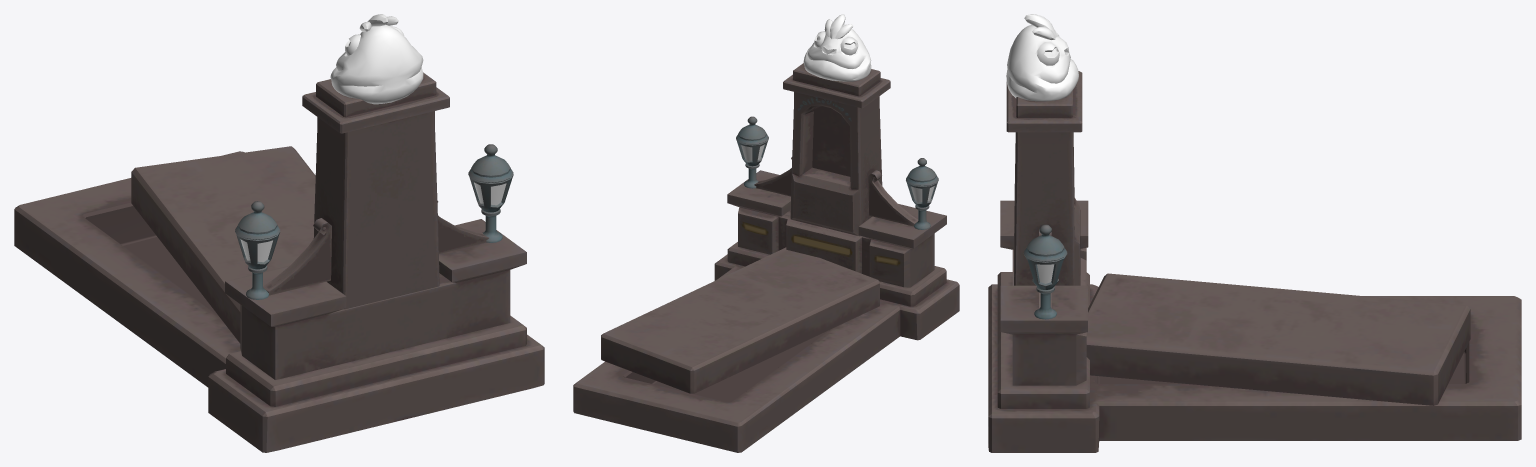
The model's file is RoyalGraveStatic 1.fbx.
The picture shows the model from 3 angles, left to right: view 1: azimuth 30°, elevation 25°; view 2: azimuth 150°, elevation 25°; view 3: azimuth 270°, elevation 25°; orthographic projection. The views are drawn at different scales.
Parts seen in each view (by area): view 1: RoyalGraveStatic_1, pillar, graveStructure, graveTop, graveStatue, lateralRamps1, urn1, urn2, lateralRamps2; view 2: RoyalGraveStatic_1, graveTop, pillar, graveStructure, graveStatue, lateralRamps1, urn1, urn2, lateralRamps2; view 3: graveTop, RoyalGraveStatic_1, pillar, graveStructure, graveStatue, urn2.
Boxes of the visible parts, <box> form: RoyalGraveStatic_1: <box>14,151,544,452</box>; pillar: <box>302,72,449,309</box>; graveStructure: <box>225,219,526,379</box>; graveTop: <box>131,146,315,343</box>; graveStatue: <box>330,14,423,104</box>; lateralRamps1: <box>263,218,331,295</box>; urn1: <box>235,201,280,299</box>; urn2: <box>468,144,513,242</box>; lateralRamps2: <box>437,200,488,253</box>; RoyalGraveStatic_1: <box>573,242,959,452</box>; graveTop: <box>601,247,879,393</box>; pillar: <box>783,63,890,236</box>; graveStructure: <box>727,170,946,287</box>; graveStatue: <box>803,14,871,81</box>; lateralRamps1: <box>868,170,918,226</box>; urn1: <box>906,158,938,229</box>; urn2: <box>736,116,768,188</box>; lateralRamps2: <box>754,157,792,196</box>; graveTop: <box>1086,273,1470,405</box>; RoyalGraveStatic_1: <box>988,272,1521,452</box>; pillar: <box>1006,71,1082,285</box>; graveStructure: <box>1000,200,1088,385</box>; graveStatue: <box>1006,14,1078,101</box>; urn2: <box>1023,224,1067,319</box>.
Bounding box in the file's own units: 978 × 1283 × 1666.
